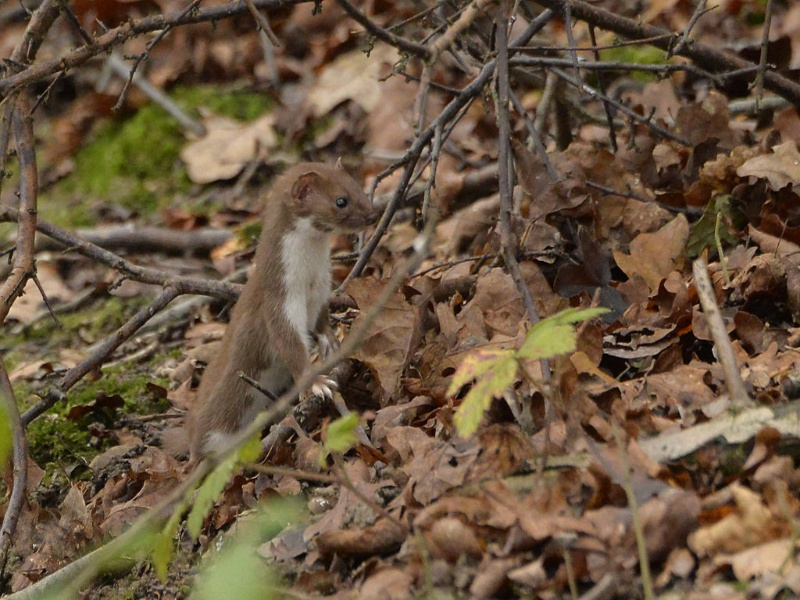minkish: (178, 155, 383, 473)
